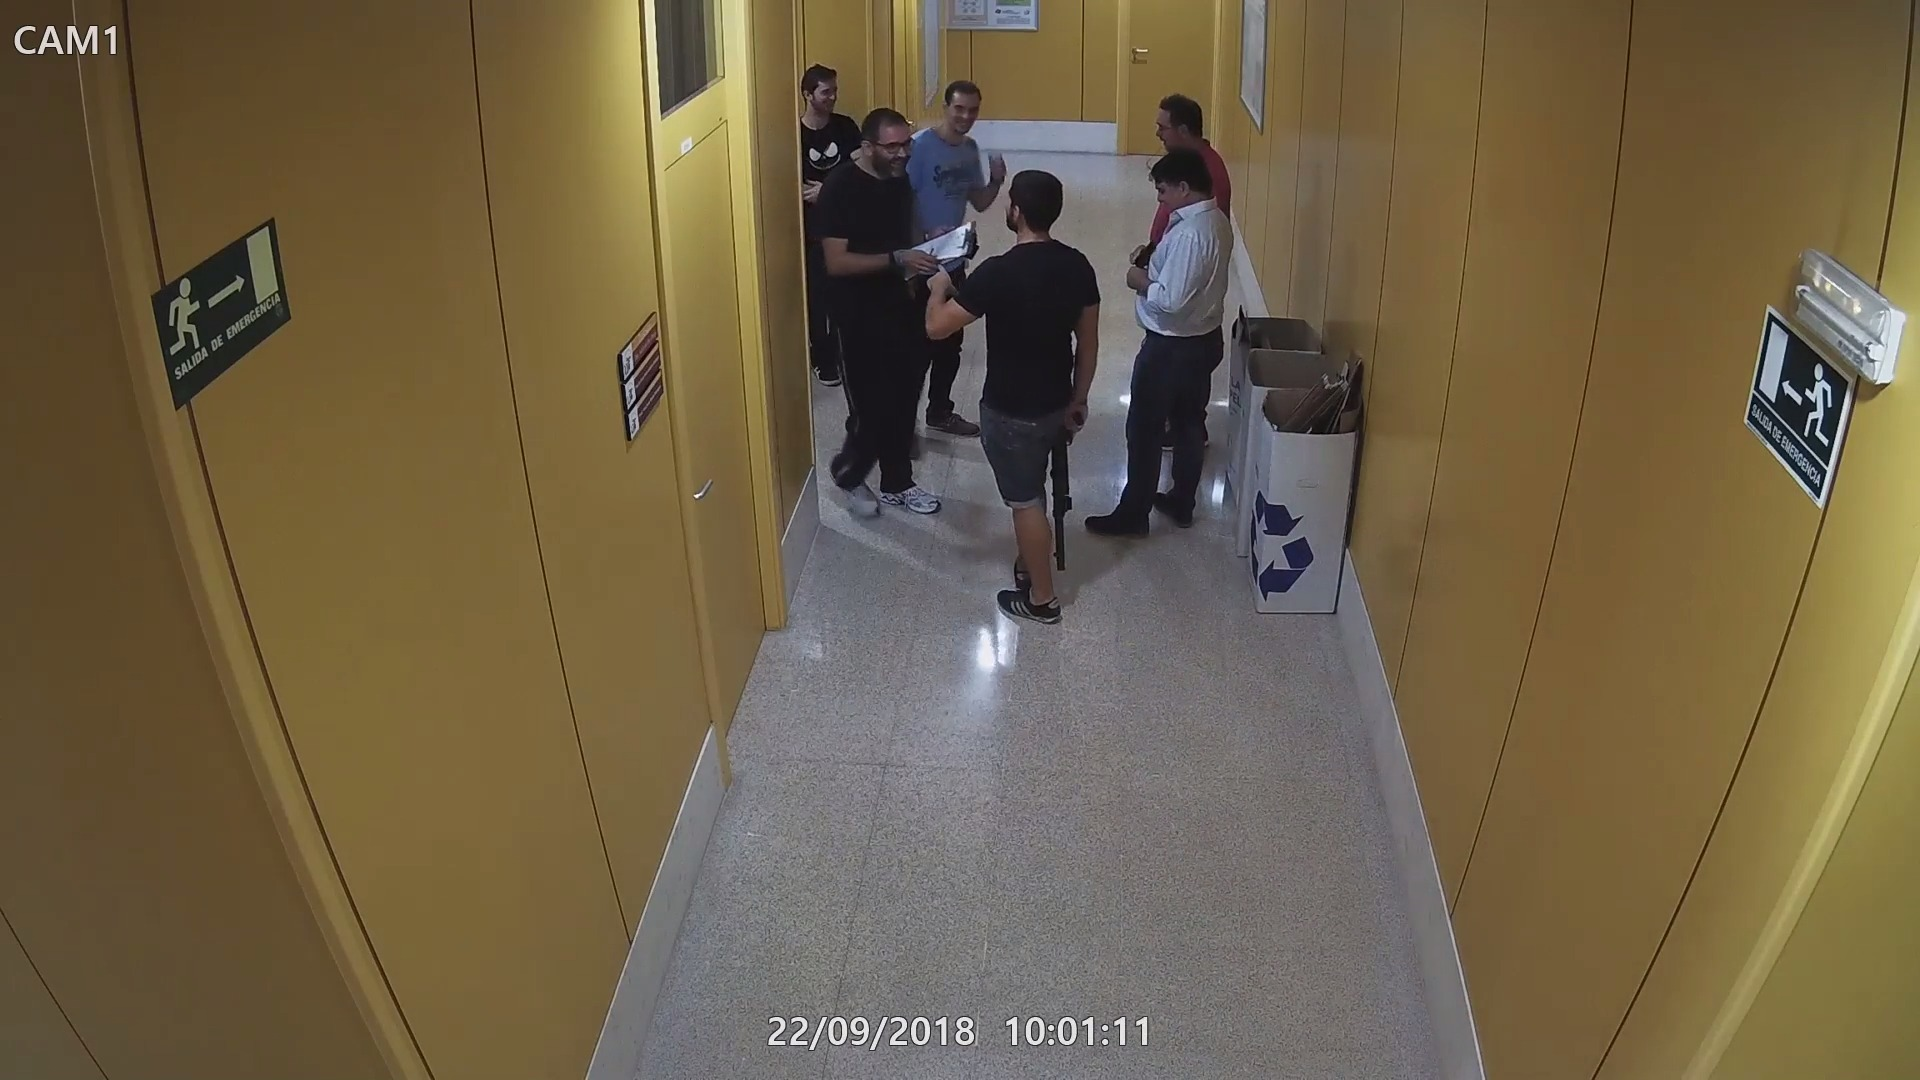Handgun: (1122, 239, 1159, 290)
Short_rifle: (1048, 404, 1081, 575)
